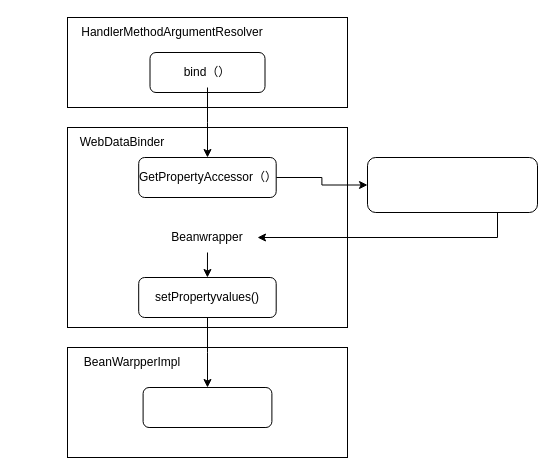
The diagram is 555 pixels wide and 475 high, and some of its shapes have lost their labels. Each missing label, with the centre of its shape:
BeanPropertyBindingResult: pixel 452 184
setPropertyValue(): pixel 207 407
